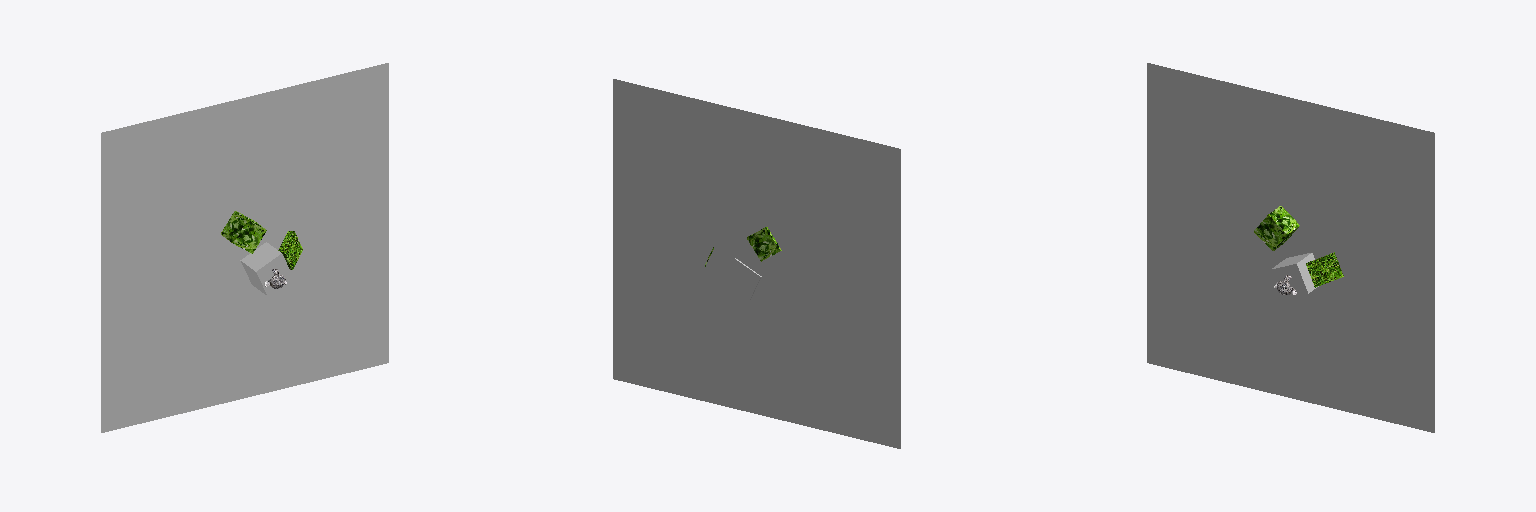
3 views of the same model, side by side, from view 1: azimuth 30°, elevation 25°; view 2: azimuth 150°, elevation 25°; view 3: azimuth 330°, elevation 25° (orthographic).
Parts seen in each view (by area): view 1: Plane, Cube_Cube.002, Cube.001_Cube, Cube.002_Cube.001; view 2: Plane, Cube_Cube.002, Cube.001_Cube; view 3: Plane, Cube_Cube.002, Cube.001_Cube, Cube.002_Cube.001.
Boxes of the visible parts, <box> form: Plane: <box>101,63,388,432</box>; Cube_Cube.002: <box>240,242,293,295</box>; Cube.001_Cube: <box>221,211,266,253</box>; Cube.002_Cube.001: <box>278,231,302,269</box>; Plane: <box>613,79,900,448</box>; Cube_Cube.002: <box>723,258,761,300</box>; Cube.001_Cube: <box>747,227,781,261</box>; Plane: <box>1147,63,1434,432</box>; Cube_Cube.002: <box>1271,253,1318,299</box>; Cube.001_Cube: <box>1254,206,1299,250</box>; Cube.002_Cube.001: <box>1306,252,1343,287</box>.
Bounding box in the file's own units: 6.39 × 6.39 × 0.9412.
5 materials, 3 textured.